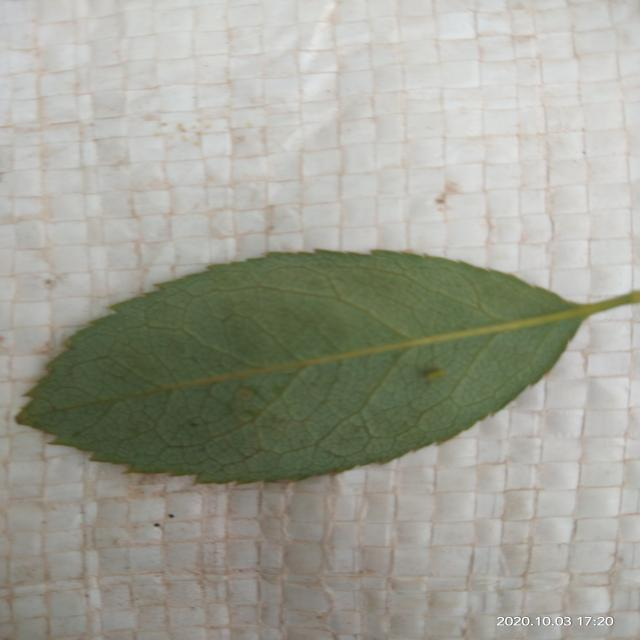rose: (17, 250, 638, 482)
